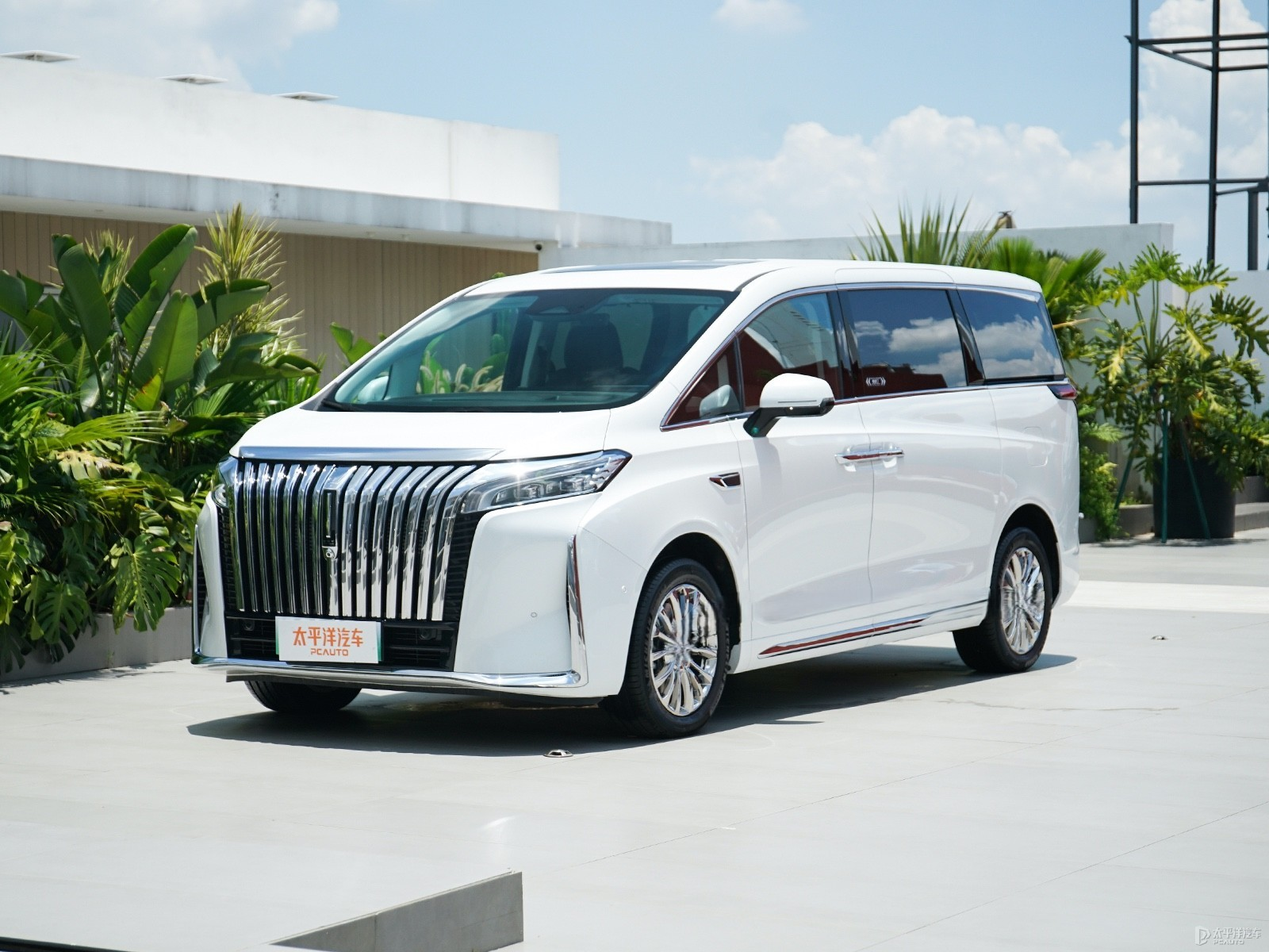WEY: (323, 490, 336, 547)
